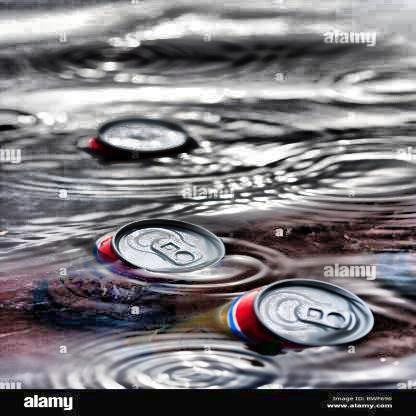can: (38, 213, 226, 311), (191, 278, 374, 354)
